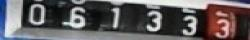digits: (69, 6, 87, 29), (28, 2, 46, 24), (146, 11, 164, 31), (180, 15, 198, 35), (215, 18, 231, 39), (110, 7, 121, 31)
